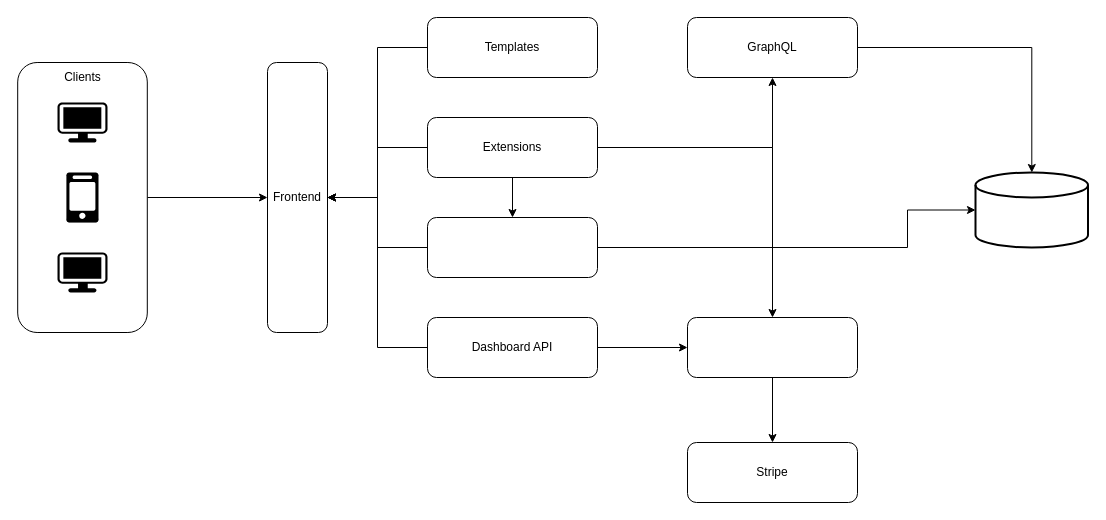
The diagram is 1106 pixels wide and 520 high, and some of its shapes have lost their labels. Here are the shapes that lost their labels. From the top down, the centre of each, then its label:
At pixel 1031 209: "PostgreSQL DB".
At pixel 512 247: "Webhook".
At pixel 772 347: "Payment API".
